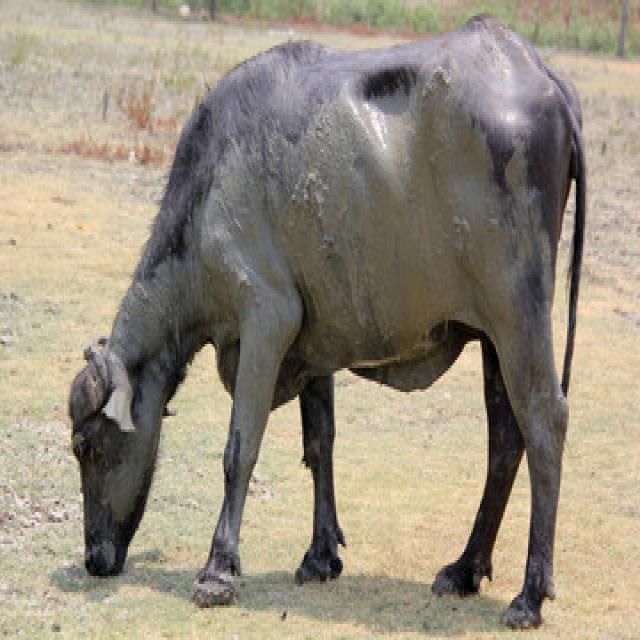Buffalo: (64, 11, 588, 627)
